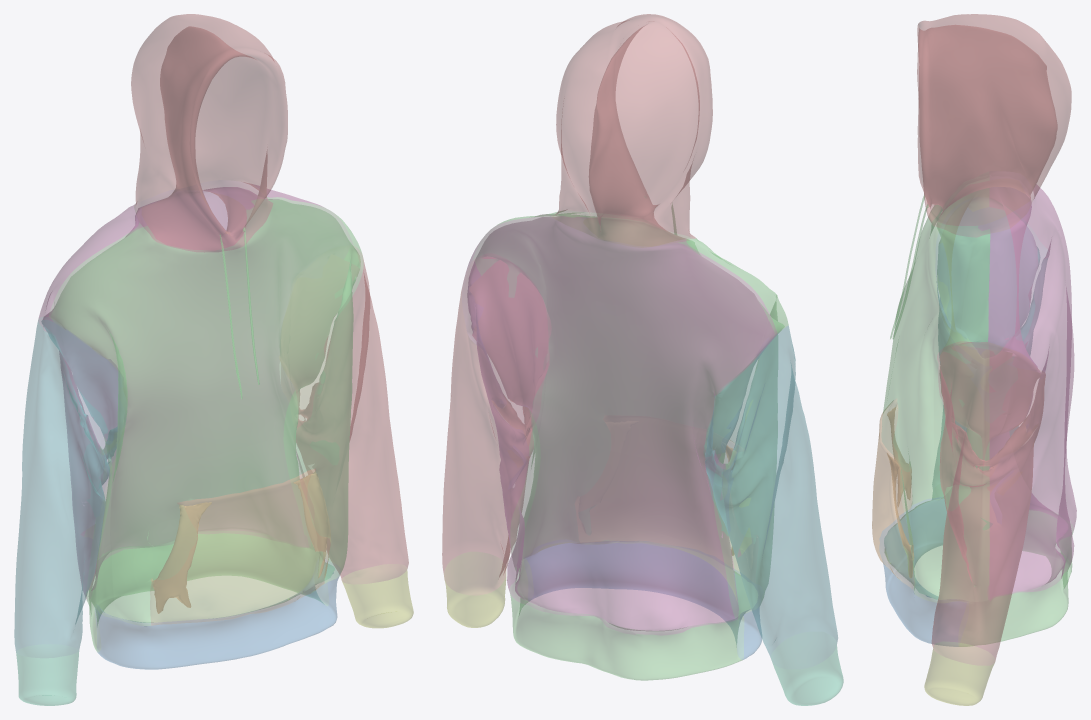
The model's file is Hoodie_Revision4.glb.
3 views of the same model, side by side, from view 1: azimuth 30°, elevation 25°; view 2: azimuth 150°, elevation 25°; view 3: azimuth 270°, elevation 25° (orthographic). The views are drawn at different scales.
Visible parts, largest first — view 1: Group44853, Group32806, Group43482, Group18032, Object001, Group36658, Group12817, Object003, Object002, Group64703, Group65254; view 2: Group32806, Group44853, Group43482, Group18032, Object001, Object003, Group12817, Group64703, Object002; view 3: Group44853, Group32806, Group43482, Object001, Group18032, Object003, Group12817, Group36658, Object002, Group65254.
Part boxes in pixels (left/top/right/bottom): Group44853: left=49, top=197, right=363, bottom=625; Group32806: left=38, top=180, right=352, bottom=598; Group43482: left=131, top=14, right=287, bottom=252; Group18032: left=14, top=317, right=126, bottom=657; Object001: left=280, top=246, right=408, bottom=584; Group36658: left=150, top=469, right=330, bottom=625; Group12817: left=95, top=559, right=340, bottom=669; Object003: left=86, top=533, right=328, bottom=651; Object002: left=342, top=564, right=413, bottom=627; Group64703: left=16, top=645, right=78, bottom=705; Group65254: left=220, top=227, right=259, bottom=398; Group32806: left=462, top=214, right=776, bottom=635; Group44853: left=473, top=210, right=788, bottom=618; Group43482: left=551, top=14, right=712, bottom=247; Group18032: left=704, top=325, right=837, bottom=668; Object001: left=442, top=256, right=548, bottom=595; Object003: left=510, top=559, right=743, bottom=680; Group12817: left=526, top=543, right=761, bottom=659; Group64703: left=771, top=632, right=843, bottom=705; Object002: left=444, top=552, right=506, bottom=627; Group44853: left=881, top=188, right=989, bottom=602; Group32806: left=978, top=184, right=1076, bottom=599; Group43482: left=917, top=14, right=1071, bottom=237; Object001: left=932, top=341, right=1045, bottom=665; Group18032: left=932, top=207, right=1047, bottom=489; Object003: left=959, top=510, right=1073, bottom=646; Group12817: left=880, top=497, right=966, bottom=646; Group36658: left=872, top=399, right=914, bottom=588; Object002: left=924, top=642, right=994, bottom=705; Group65254: left=890, top=195, right=928, bottom=339.
Bounding box in the file's own units: 22 × 34.48 × 10.59.
